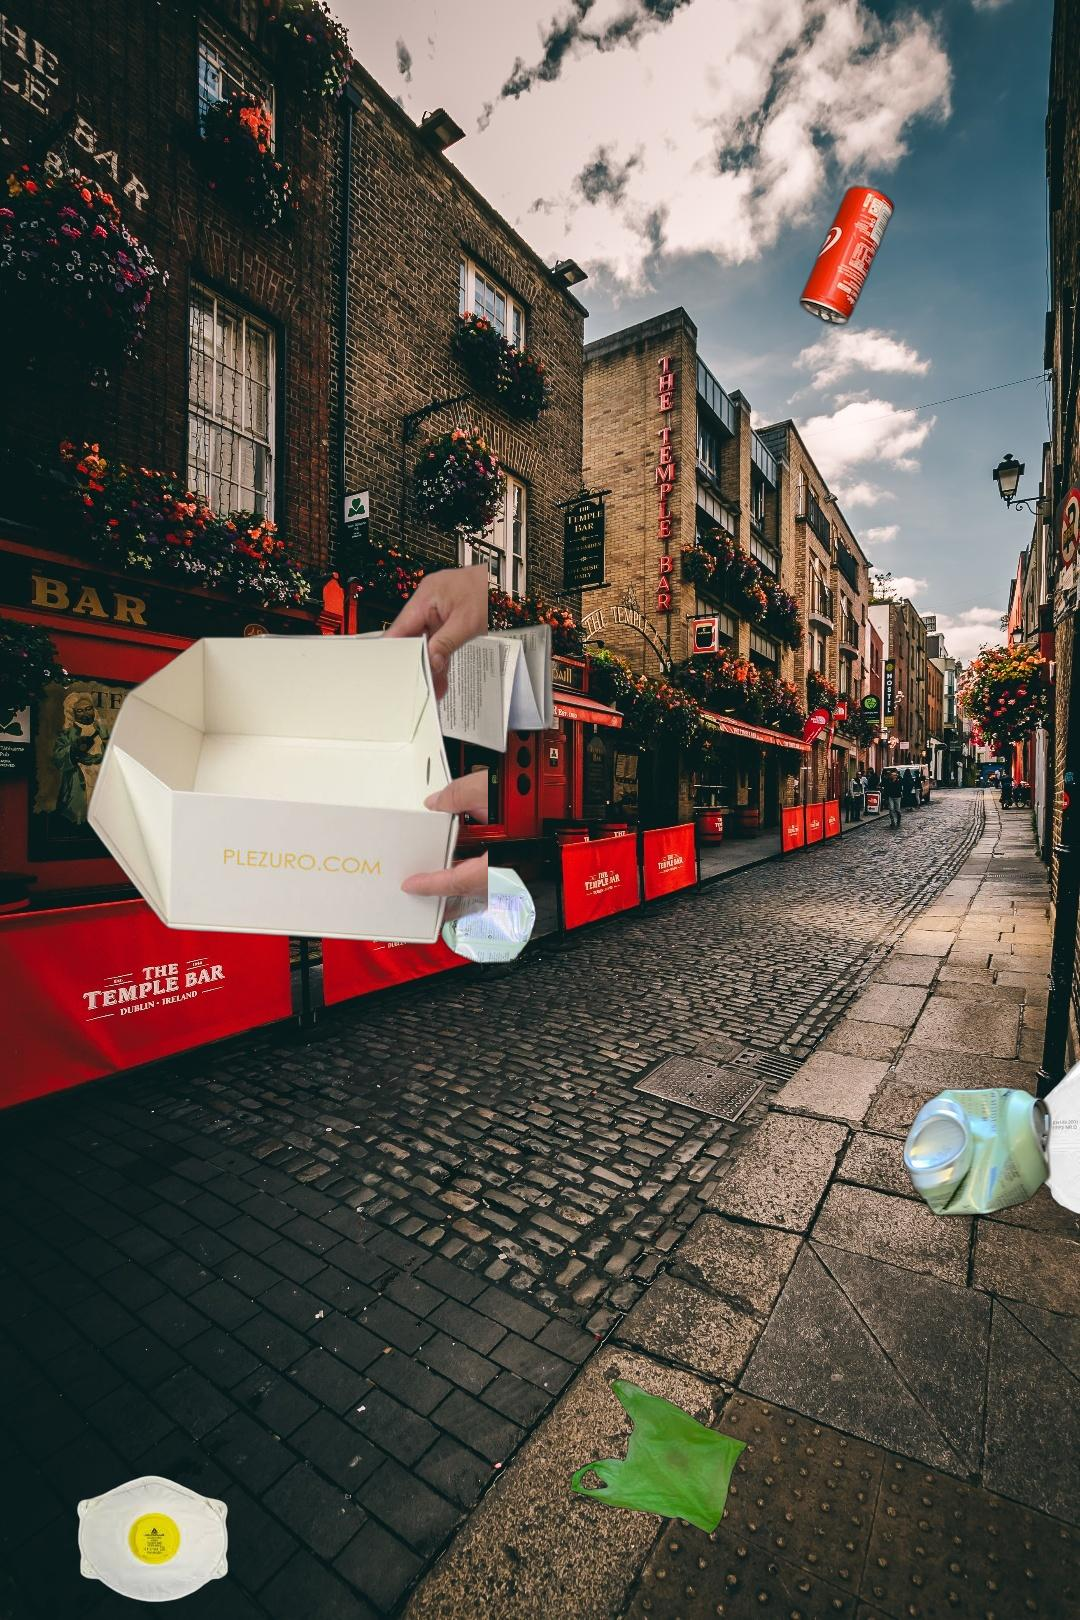metal-cans: (898, 1081, 1056, 1223), (796, 181, 898, 331), (436, 859, 541, 969)
paper: (234, 620, 559, 756)
plastic-bag: (567, 1377, 751, 1537)
trash: (74, 1472, 231, 1606), (980, 1045, 1080, 1221)
trashbox-cardboard: (82, 552, 488, 949)
